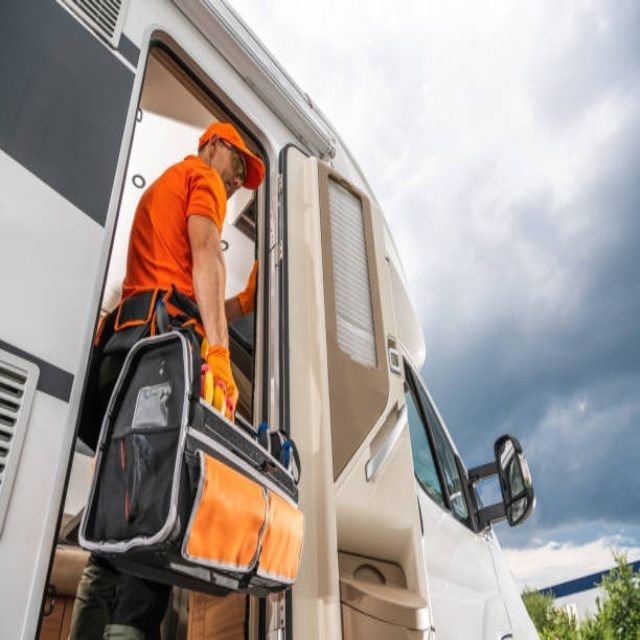Gafas: (219, 138, 247, 184)
Guantes: (202, 342, 238, 417), (237, 260, 258, 316)
